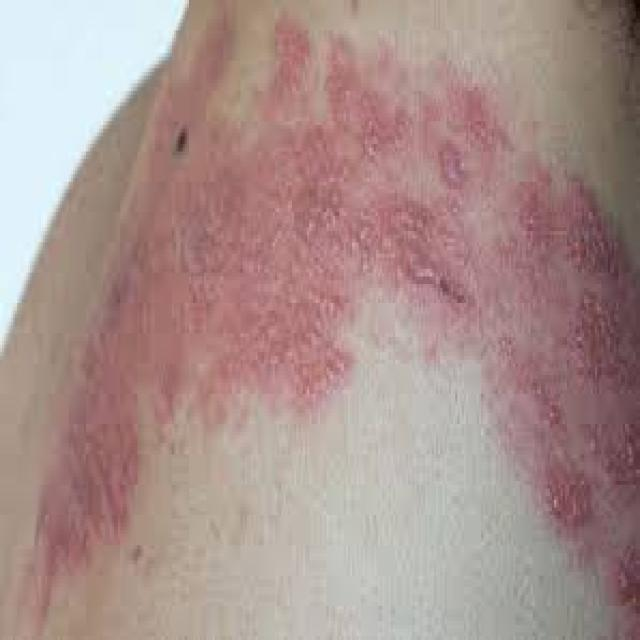Shingles: (11, 15, 640, 627)
